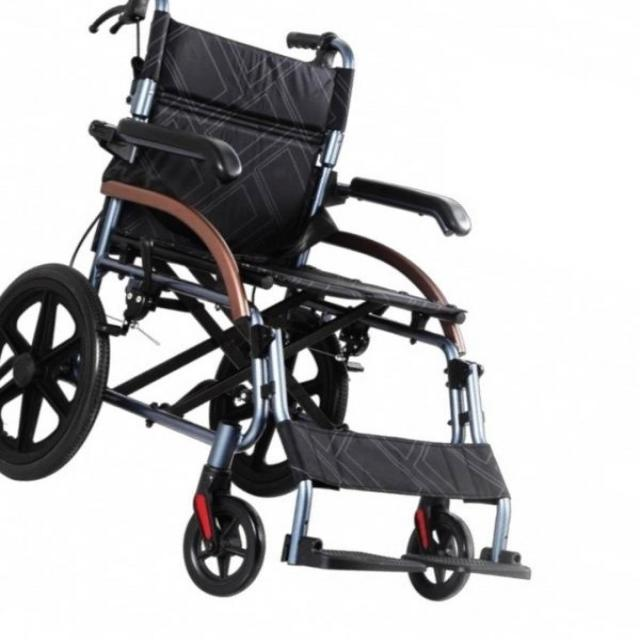wheelchair: (1, 0, 560, 611)
